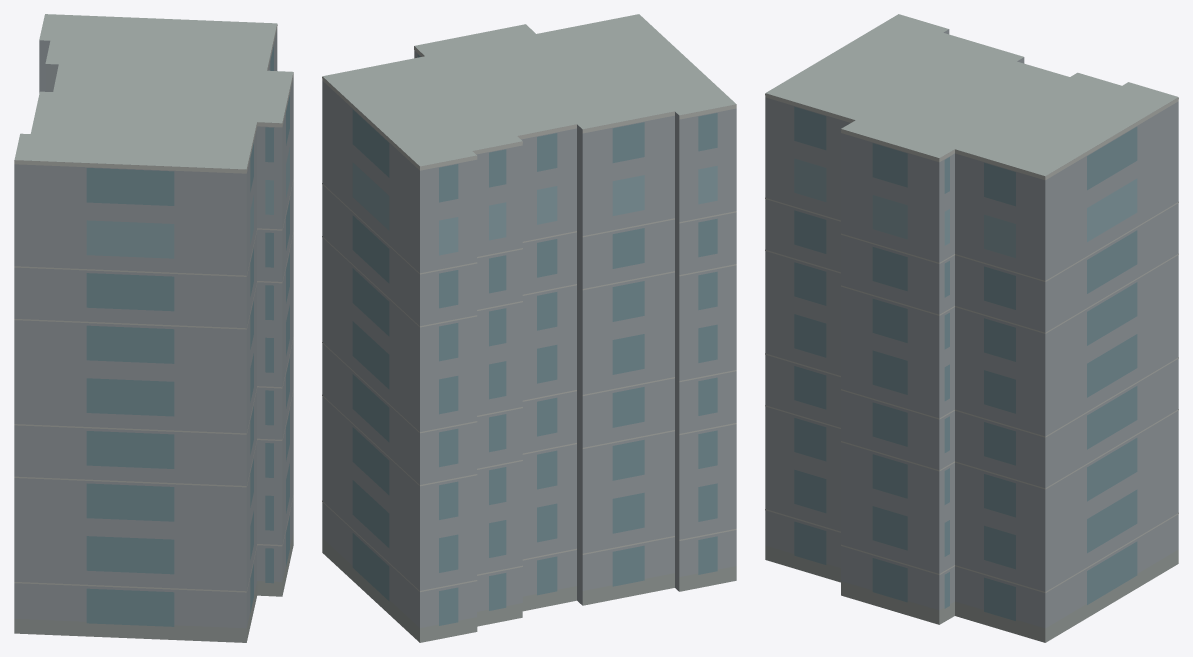
Rendered from survey-upis-32765847.glb.
3 views of the same model, side by side, from view 1: azimuth 30°, elevation 25°; view 2: azimuth 150°, elevation 25°; view 3: azimuth 270°, elevation 25° (orthographic). The views are drawn at different scales.
Visible parts, largest first — view 1: survey-upis-32765847.tmp; view 2: survey-upis-32765847.tmp; view 3: survey-upis-32765847.tmp.
Part boxes in pixels (x1,y1,x2,y2): survey-upis-32765847.tmp: (14,14,293,642); survey-upis-32765847.tmp: (322,14,736,642); survey-upis-32765847.tmp: (765,14,1178,642).
Size of the model in its own units: 20.49 by 27.45 by 22.06.
